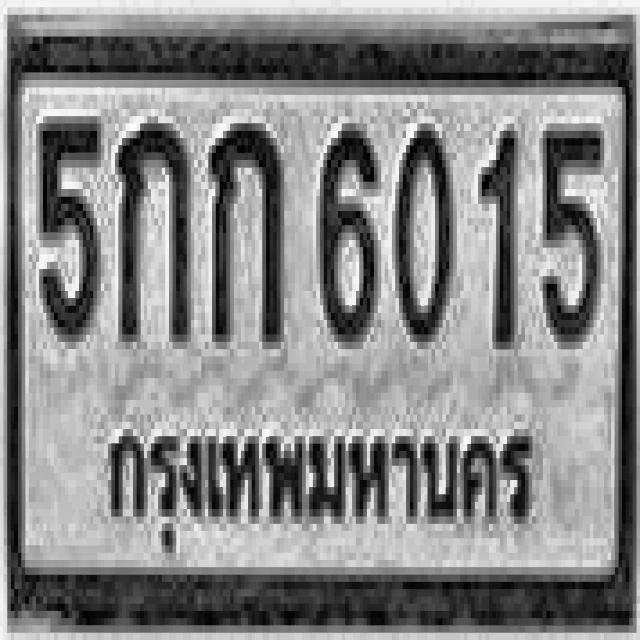license-plate: (8, 30, 632, 620)
